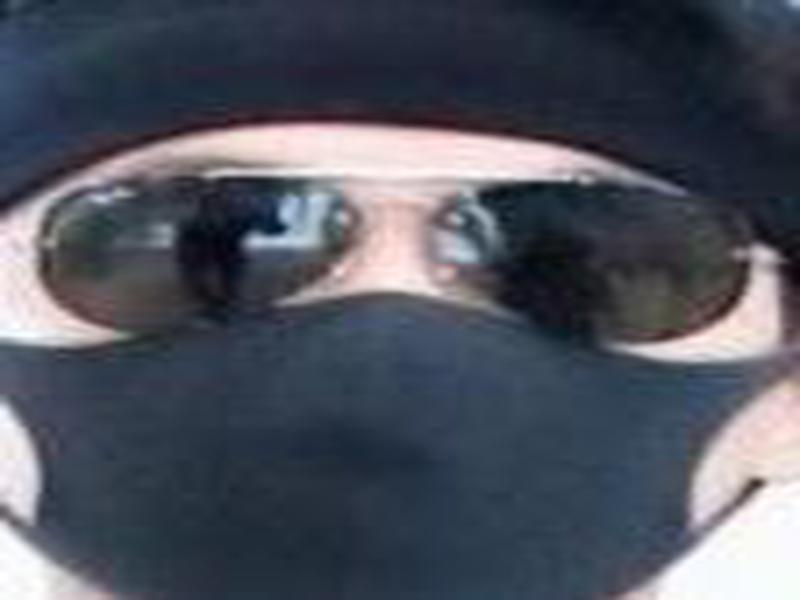with_mask: (1, 118, 798, 599)
